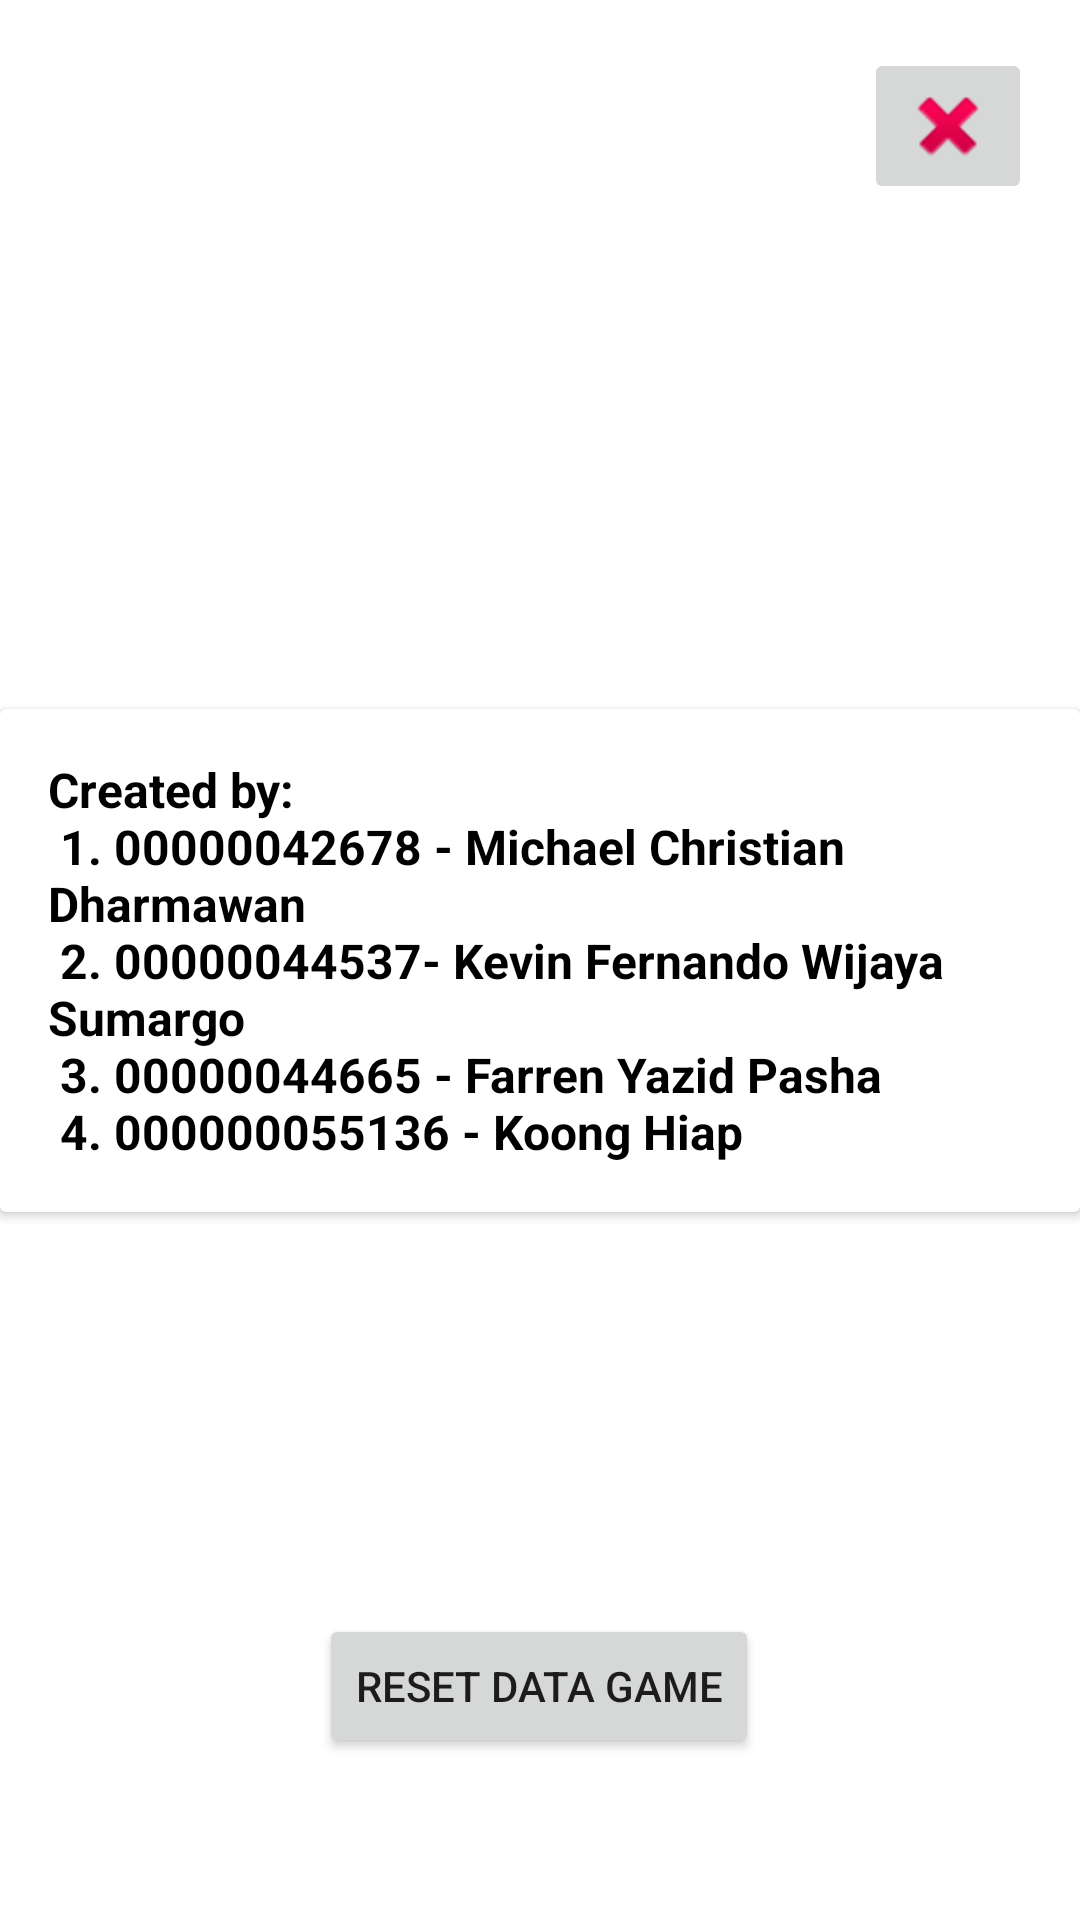

Screen size 1080px×1920px. Icon name, then its box in pixels as (x1=x1, y1=y1, x2=x2, y2=y2):
delete: (x1=876, y1=66, x2=1020, y2=186)
